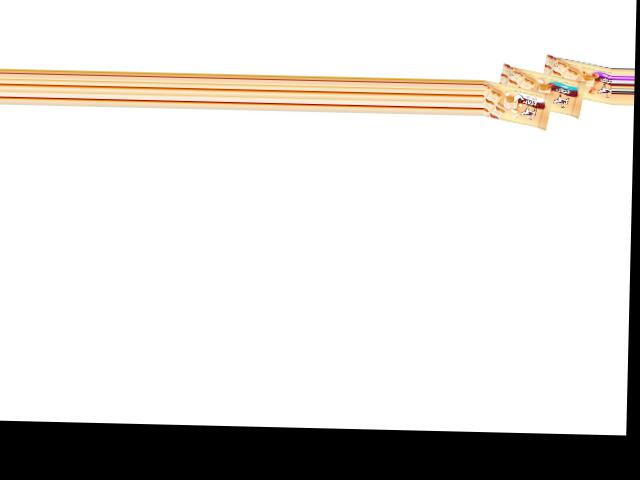chocolate: (536, 58, 613, 105)
